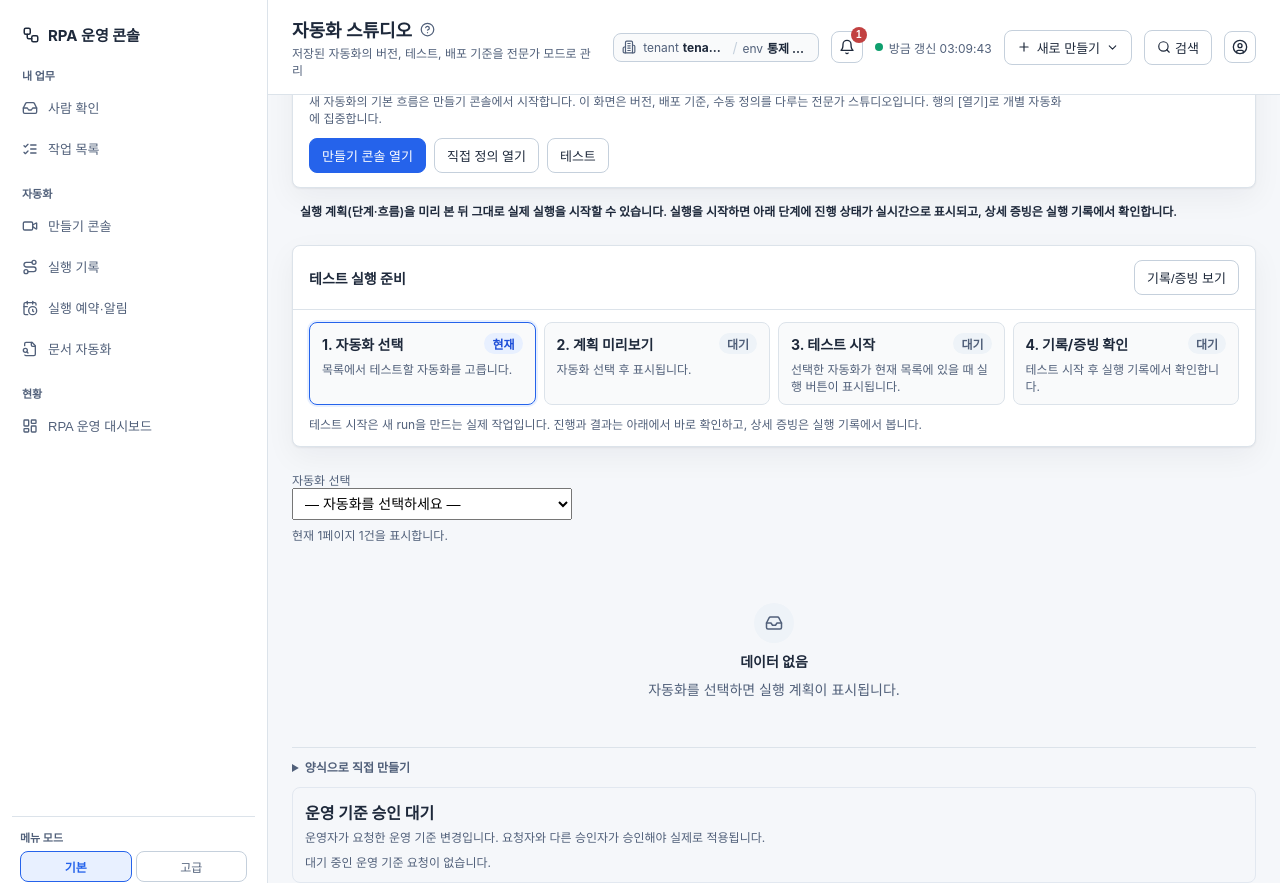
테스트 실행(Playground) — 계획 미리보기 + 실제 실행 시작 › 자동화 선택 → 실행 계획(단계) 표시
The width and height of the screenshot is (1280, 883).
(page scrolled)
Select "리뷰 수집 (변경 2)" in the dropdown: (432, 504) 292,488 -> 572,520
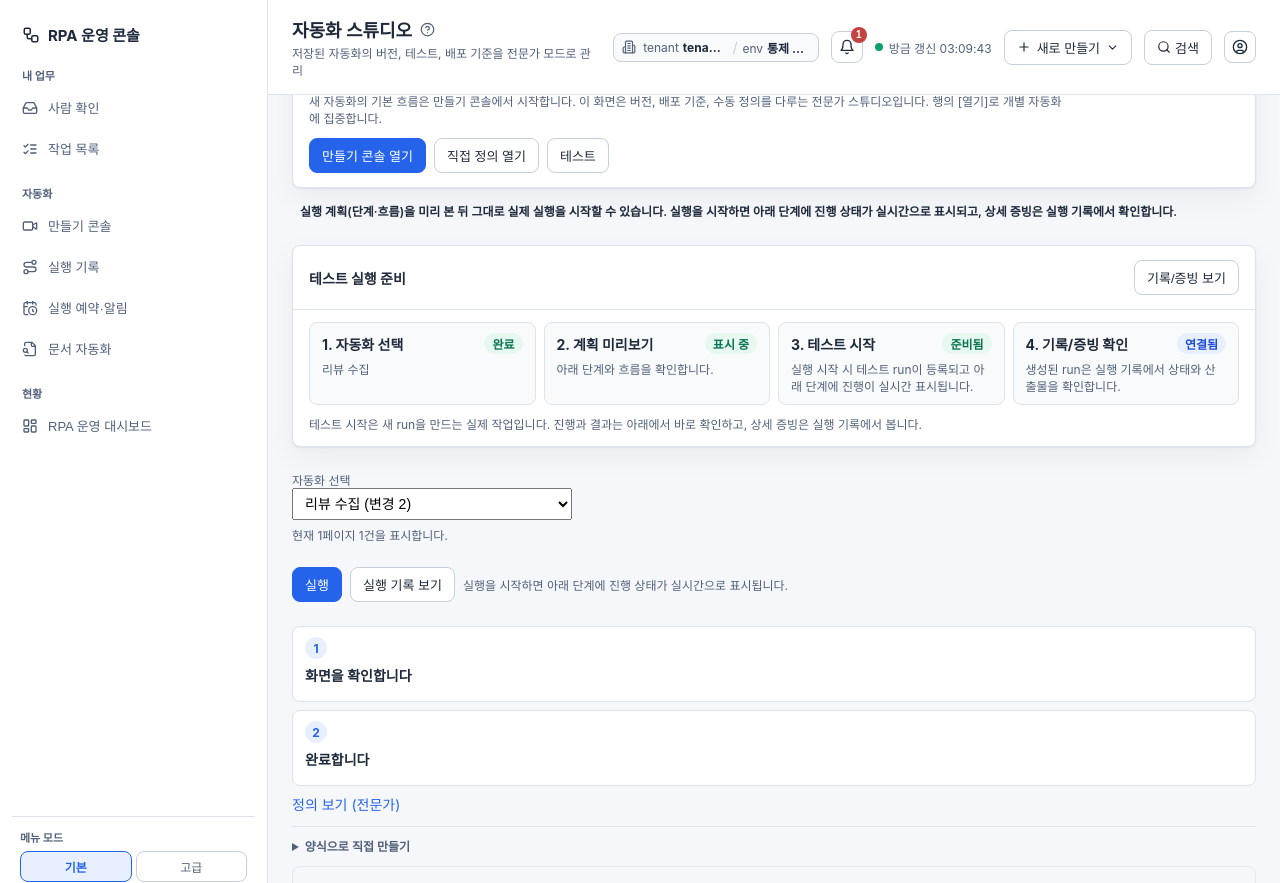
Result: the text "화면을 확인합니다" is shown at 305,665 -> 412,685
